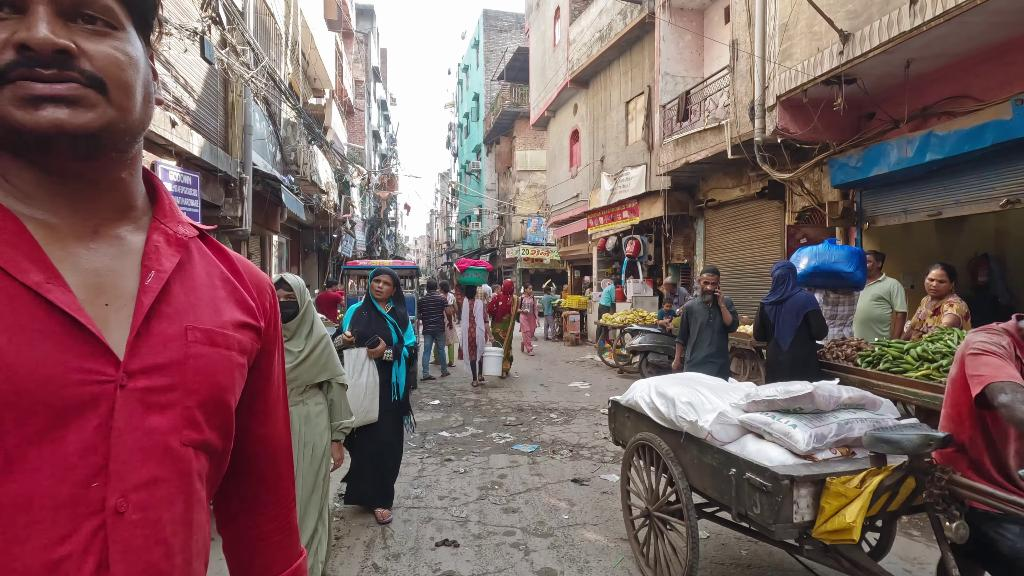garbage: (512, 442, 541, 454), (599, 471, 620, 484), (568, 382, 592, 388), (430, 399, 440, 405)
